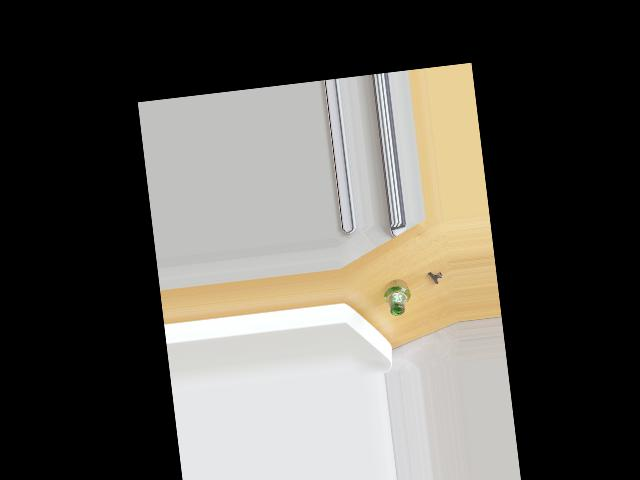beer: (381, 277, 412, 316)
